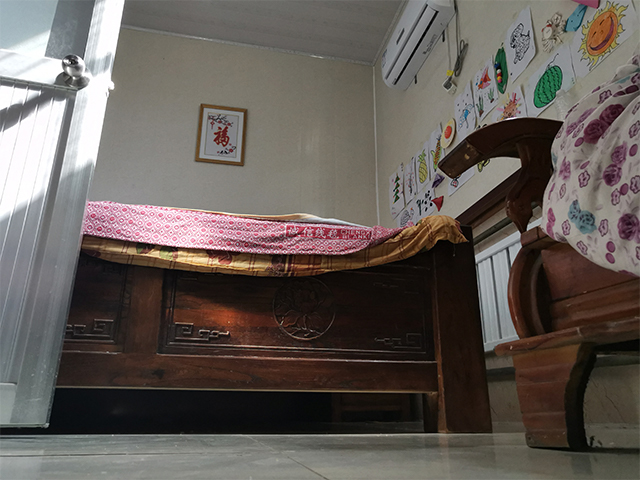bed: (57, 198, 495, 435)
stool: (435, 52, 640, 453)
